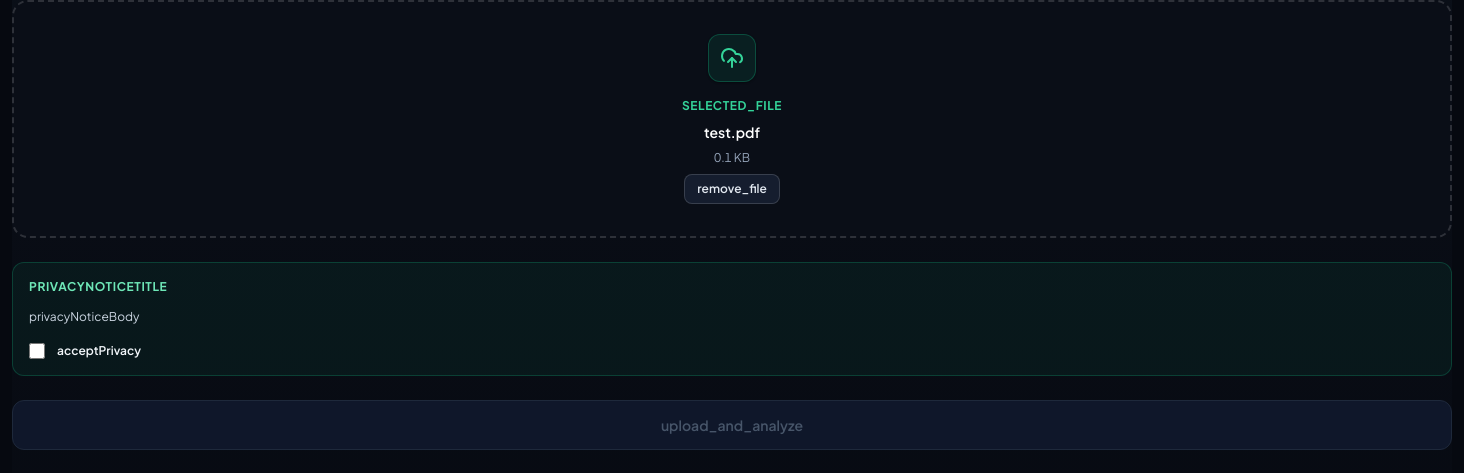
it: DocumentUploadForm — automatic upload-to-questions flow (Phase 13) › shows the specific translated message for a known upload error code
Earlier steps of the test are not shown.
Click the checkbox at point(37, 350), box [29,342,45,358]
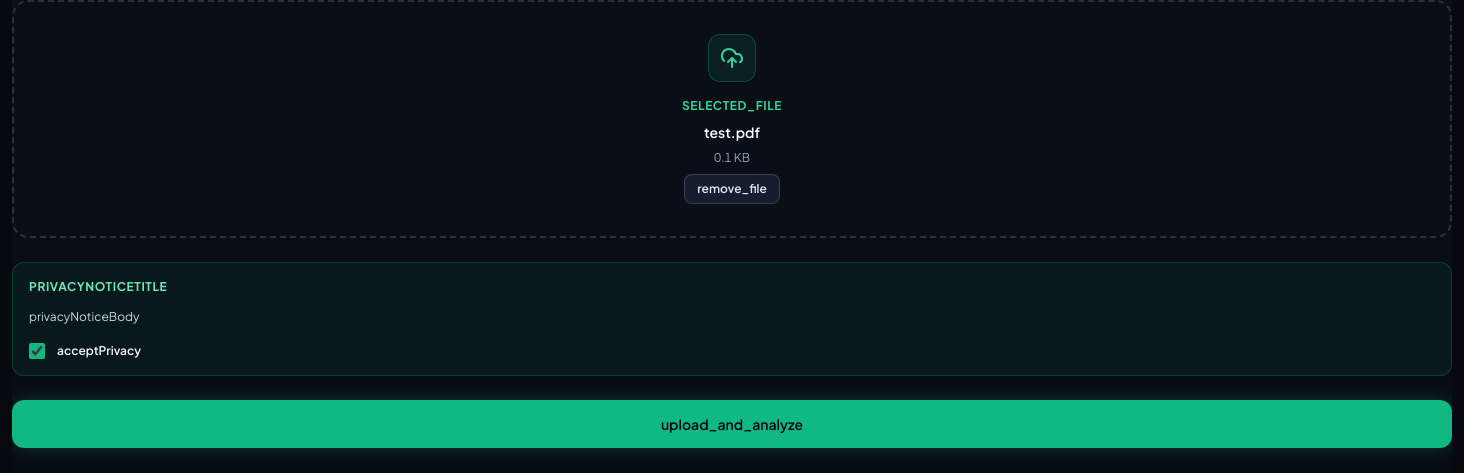
Click the button "upload_and_analyze" at point(732, 424), box [12,400,1452,448]
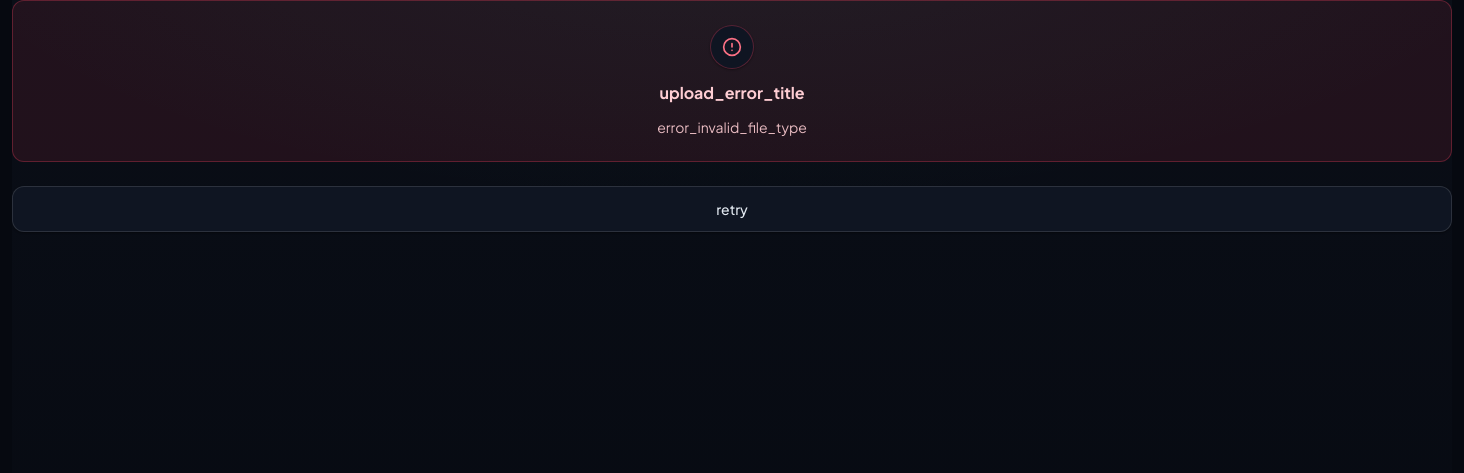
Check: the text "error_invalid_file_type" is shown, box [657,118,807,136]
